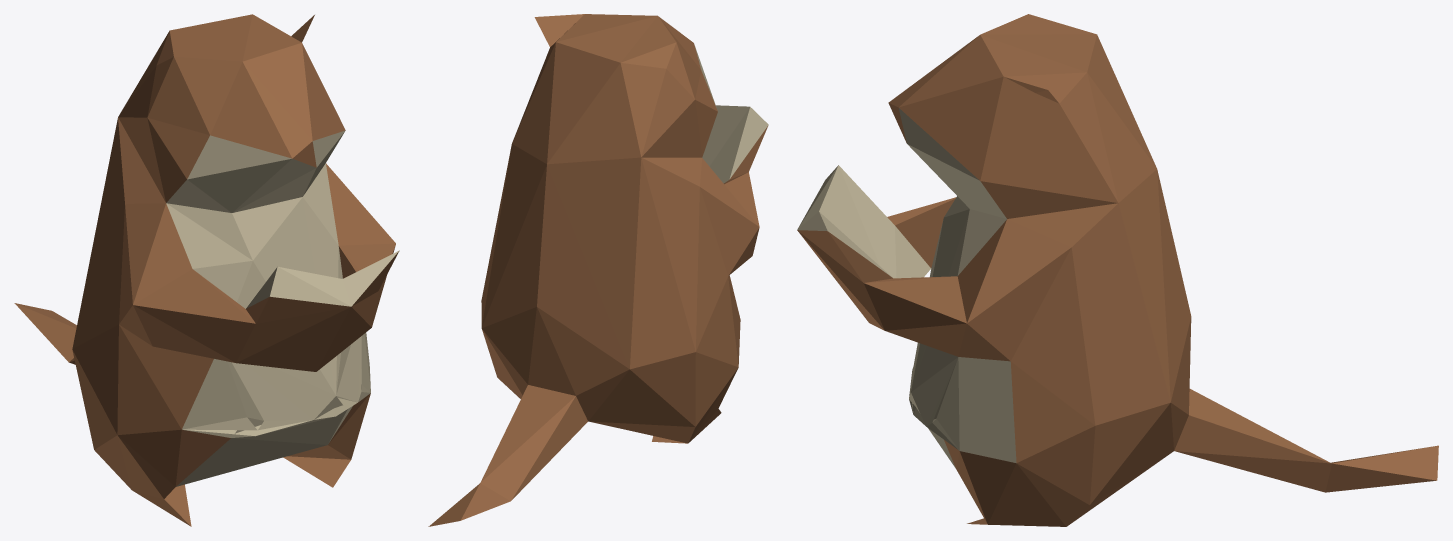
The picture shows the model from 3 angles, left to right: view 1: azimuth 30°, elevation 25°; view 2: azimuth 150°, elevation 25°; view 3: azimuth 270°, elevation 25°; orthographic projection. The views are drawn at different scales.
Visible parts, largest first — view 1: lion-200; view 2: lion-200; view 3: lion-200.
Boxes of the visible parts, x1=… form: lion-200: x1=14, y1=14, x2=399, y2=526; lion-200: x1=428, y1=14, x2=768, y2=526; lion-200: x1=797, y1=14, x2=1438, y2=526.
Bounding box in the file's own units: 0.469 × 0.7641 × 0.99.
